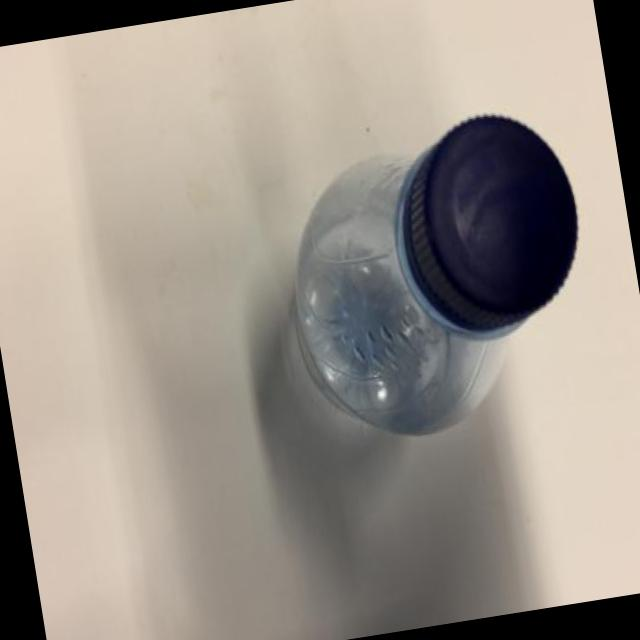Recycle: (262, 96, 615, 466)
